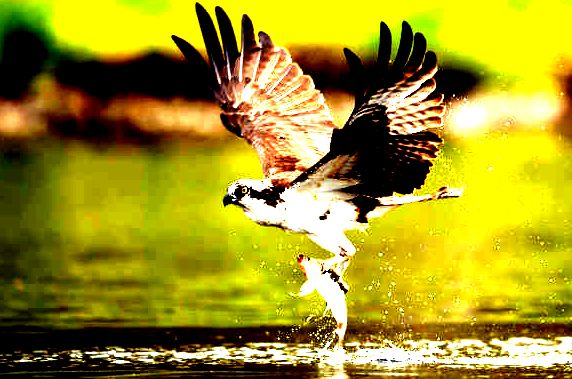Bird: (169, 1, 460, 280)
